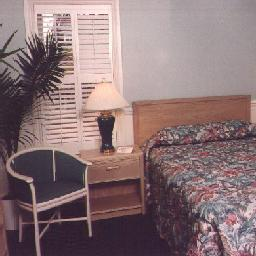Cama: (151, 97, 253, 247)
